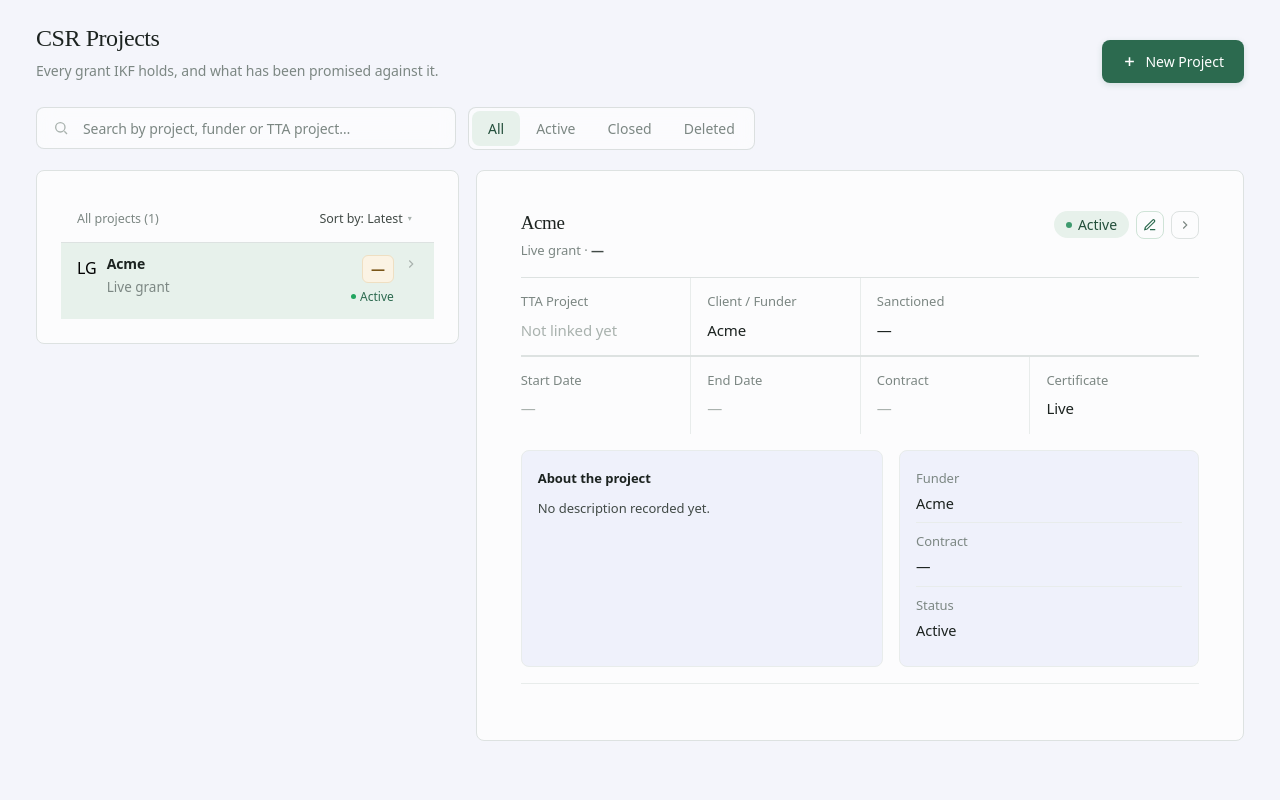
Deleted lists the deleted grants and restores one
Check: the button with aria-label "Show Acme" is shown, box [61,243,434,319]
Check: the button "Restore" is not shown
What coordinates should you click on to do the following:
click the tab "Deleted"
I would click on:
 (709, 128)
Its box is [668,111,751,146].
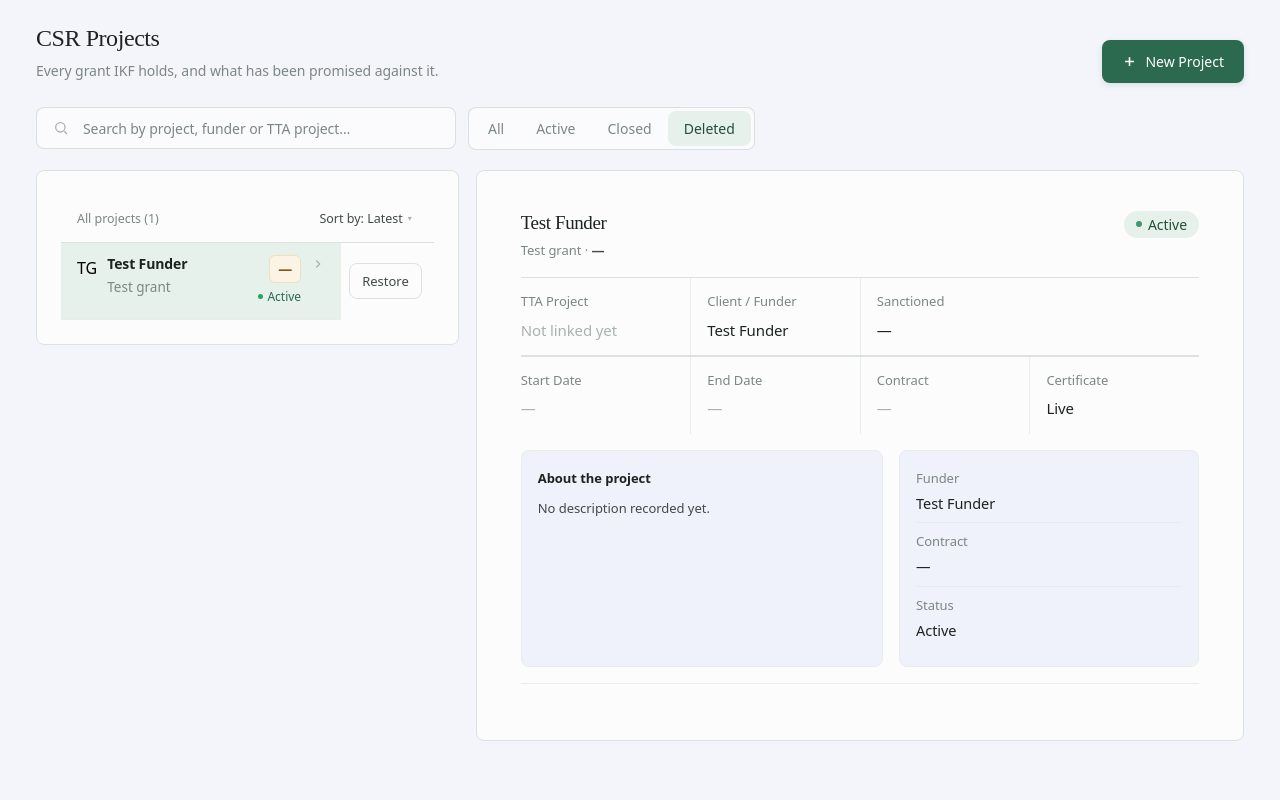
What coordinates should you click on to do the following:
click the button with aria-label "Restore Test Funder"
I would click on:
 (385, 281)
Its box is [349,263,422,300].
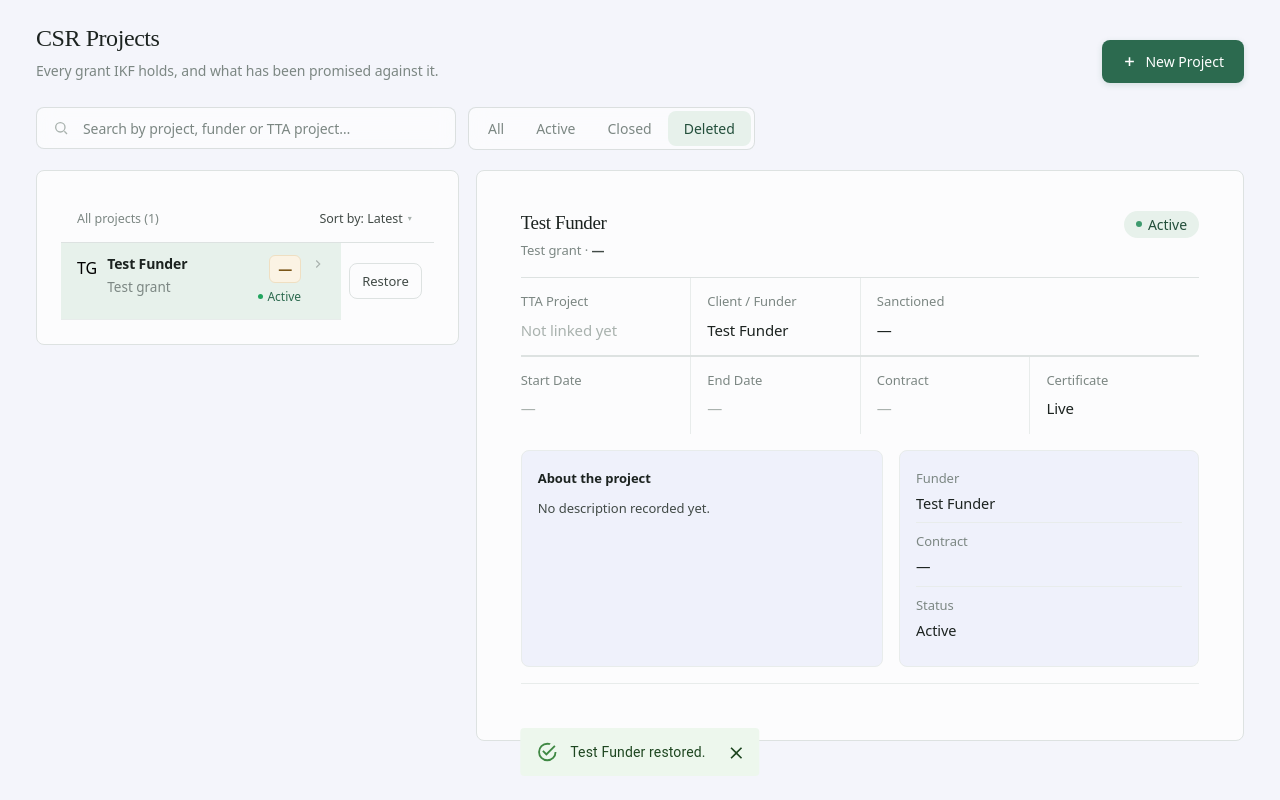
Check: the text "Test Funder restored." is shown, box [570,744,706,760]
